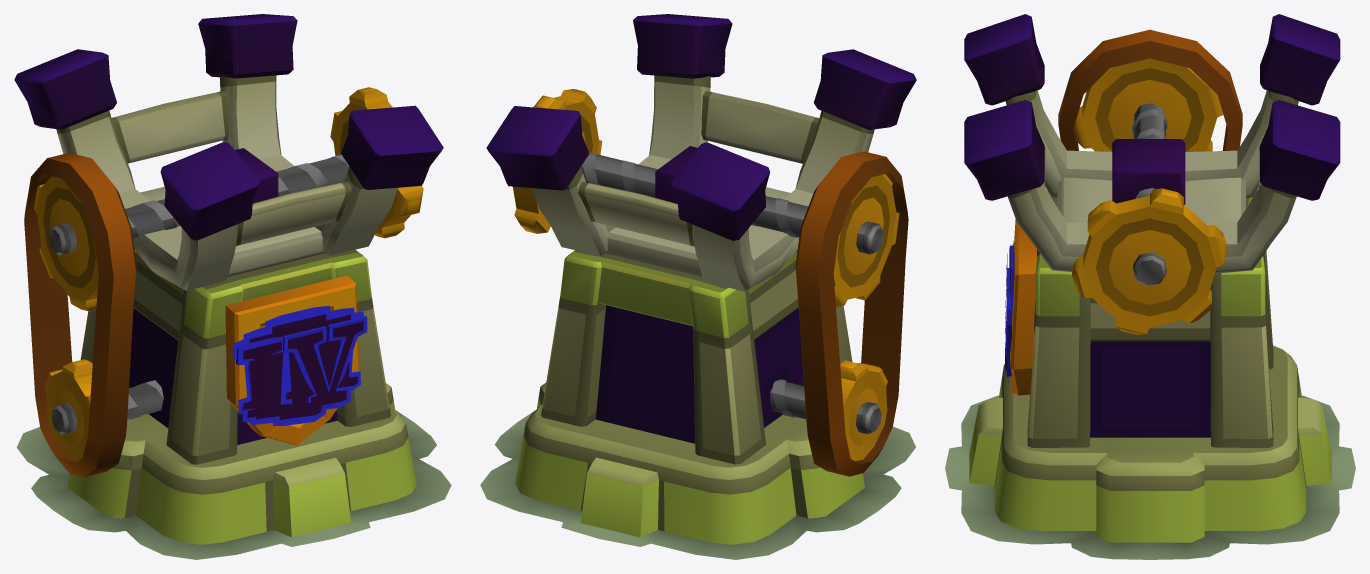
File: Shipyard_Rework.fbx
3 renders of one model, left to right at view 1: azimuth 30°, elevation 25°; view 2: azimuth 150°, elevation 25°; view 3: azimuth 270°, elevation 25°, orthographic. The views are drawn at different scales.
Visible parts, largest first — view 1: Shipyard_Rework_T1, Shipyard_Rework_T4, Shipyard_Rework_T2, Shipyard_Rework_T3; view 2: Shipyard_Rework_T1; view 3: Shipyard_Rework_T1, Shipyard_Rework_T4.
Part boxes in pixels (x1=…): Shipyard_Rework_T1: x1=14, y1=14, x2=451, y2=559; Shipyard_Rework_T4: x1=236, y1=315, x2=367, y2=421; Shipyard_Rework_T2: x1=243, y1=307, x2=354, y2=424; Shipyard_Rework_T3: x1=233, y1=311, x2=363, y2=413; Shipyard_Rework_T1: x1=480, y1=14, x2=916, y2=559; Shipyard_Rework_T1: x1=945, y1=14, x2=1355, y2=559; Shipyard_Rework_T4: x1=1005, y1=245, x2=1014, y2=376.
Size of the model in its own units: 4.8 by 4.91 by 4.57.
